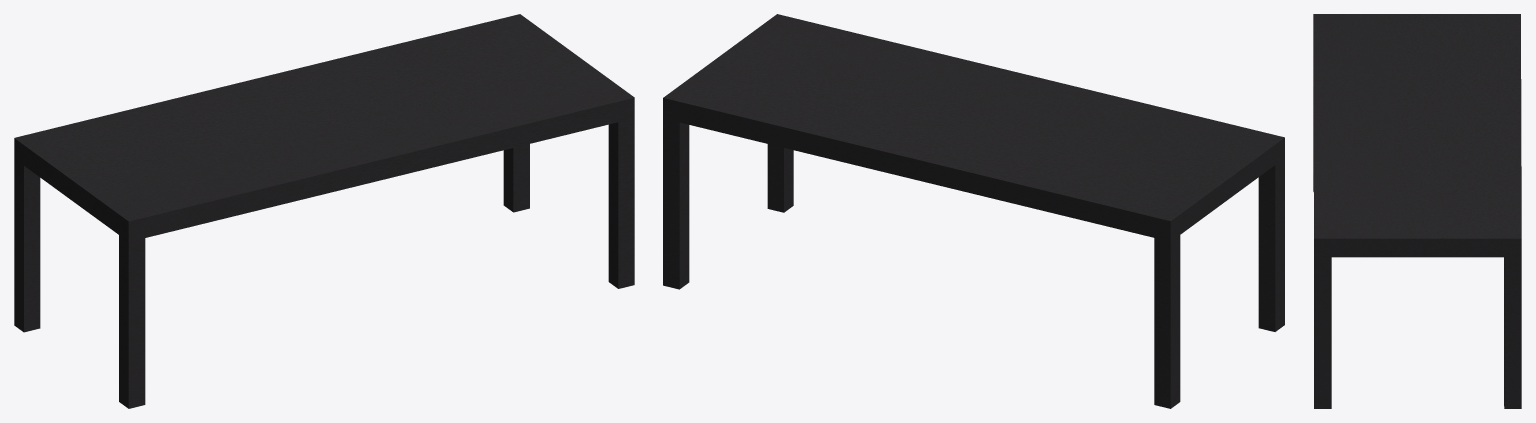
The model's file is Lack_Black_Table-3D.DAE.
3 views of the same model, side by side, from view 1: azimuth 30°, elevation 25°; view 2: azimuth 150°, elevation 25°; view 3: azimuth 270°, elevation 25° (orthographic). The views are drawn at different scales.
Parts seen in each view (by area): view 1: Box01; view 2: Box01; view 3: Box01.
Part boxes in pixels (x1,y1,x2,y2): Box01: [14, 14, 634, 408]; Box01: [663, 14, 1284, 408]; Box01: [1313, 14, 1521, 408].
Size of the model in its own units: 1101 by 389 by 432.
